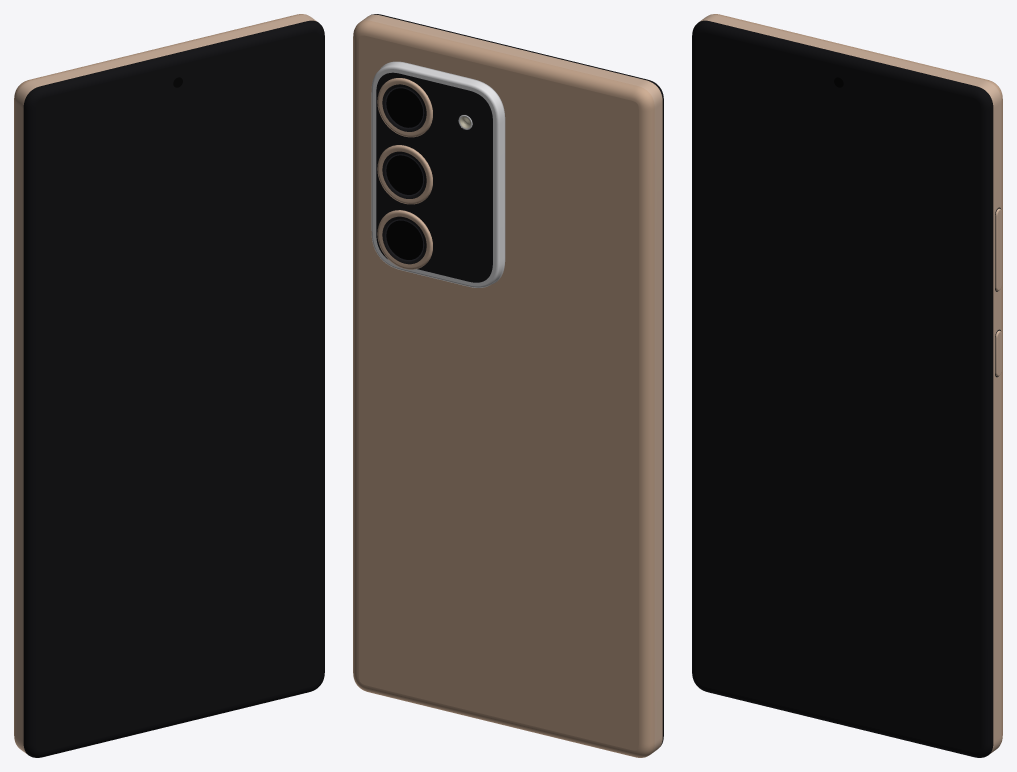
Rendered from galaxy-note20-ultra.glb.
3 views of the same model, side by side, from view 1: azimuth 30°, elevation 25°; view 2: azimuth 150°, elevation 25°; view 3: azimuth 330°, elevation 25° (orthographic).
Parts seen in each view (by area): view 1: body; view 2: body, camera; view 3: body, buttons.
Boxes of the visible parts, x1=… form: body: x1=14, y1=14, x2=324, y2=757; body: x1=353, y1=14, x2=663, y2=757; camera: x1=371, y1=61, x2=505, y2=287; body: x1=692, y1=14, x2=1002, y2=757; buttons: x1=995, y1=207, x2=1001, y2=377.
Size of the model in its own units: 77.63 by 165 by 11.12.
